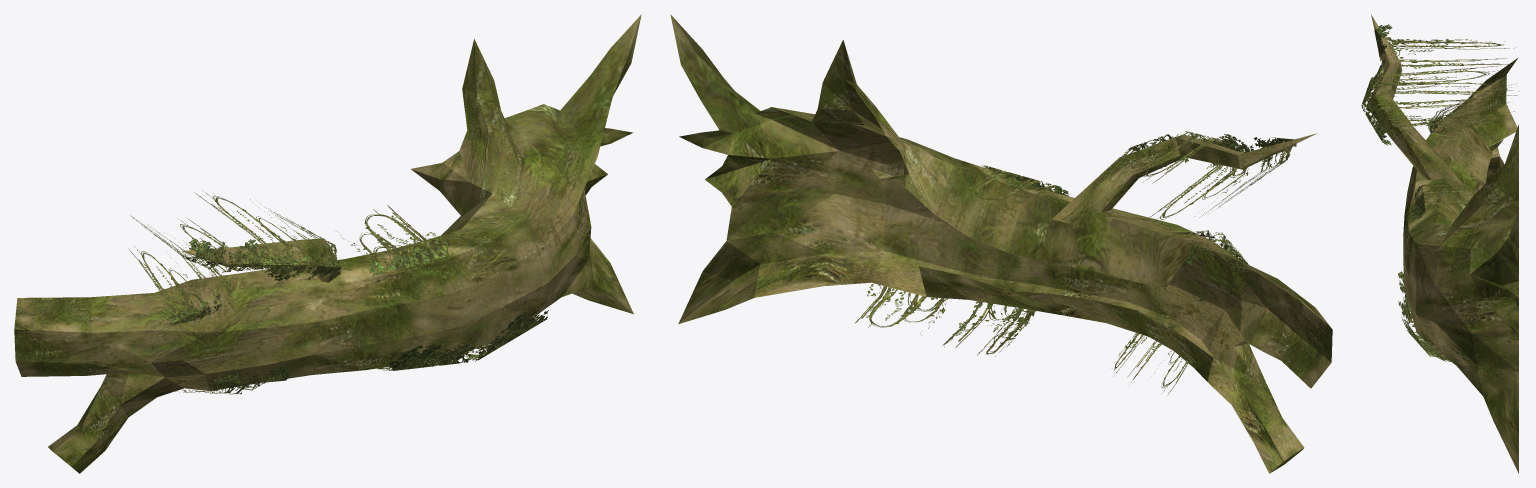
File: huodong_fuben_188_dumuqiao.obj
The picture shows the model from 3 angles, left to right: view 1: azimuth 30°, elevation 25°; view 2: azimuth 150°, elevation 25°; view 3: azimuth 270°, elevation 25°; orthographic projection. The views are drawn at different scales.
Parts seen in each view (by area): view 1: huodong_fuben_188_dumuqiao_01; view 2: huodong_fuben_188_dumuqiao_01; view 3: huodong_fuben_188_dumuqiao_01.
Part boxes in pixels (box(x1,y1,x2,y2)): huodong_fuben_188_dumuqiao_01: box(14, 14, 641, 473); huodong_fuben_188_dumuqiao_01: box(670, 14, 1332, 473); huodong_fuben_188_dumuqiao_01: box(1361, 14, 1519, 473).
Bounding box in the file's own units: 250 × 122 × 61.59.
1 material, 1 textured.
